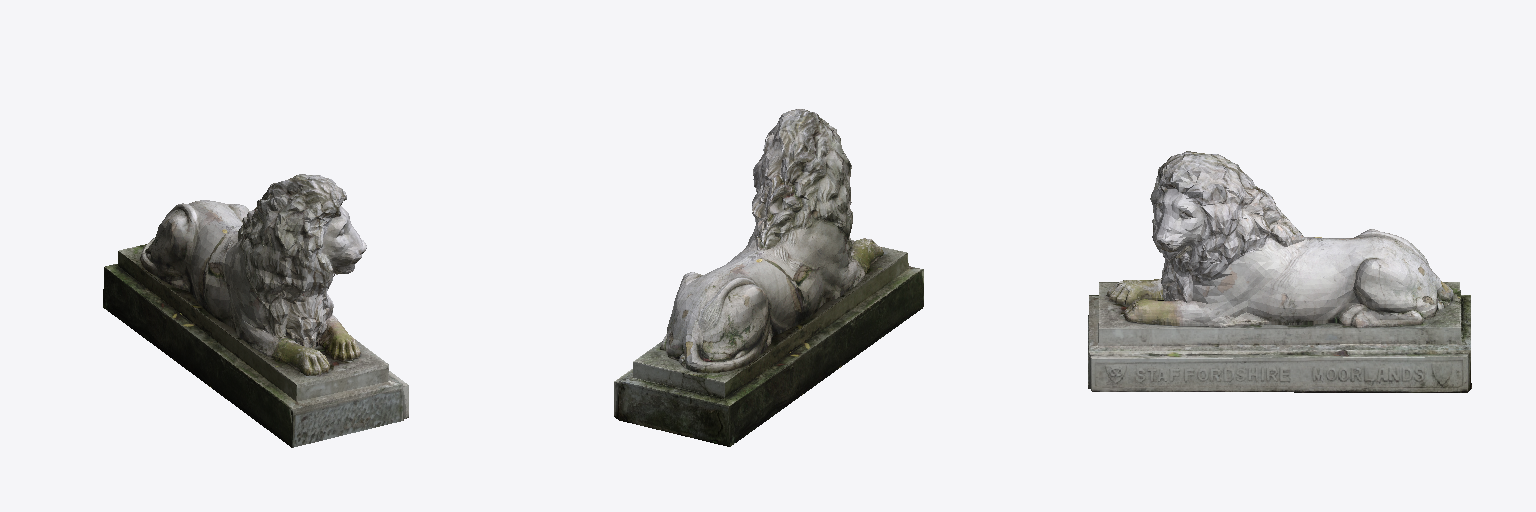
The picture shows the model from 3 angles: view 1: azimuth 30°, elevation 25°; view 2: azimuth 150°, elevation 25°; view 3: azimuth 270°, elevation 25°; orthographic projection.
Parts seen in each view (by area): view 1: Lion, Base; view 2: Lion, Base; view 3: Lion, Base.
Part boxes in pixels (bbox=[...]): Lion: bbox=[140, 174, 366, 375]; Base: bbox=[103, 244, 408, 447]; Lion: bbox=[660, 109, 883, 372]; Base: bbox=[614, 240, 923, 446]; Lion: bbox=[1106, 151, 1453, 327]; Base: bbox=[1088, 282, 1471, 392].
Size of the model in its own units: 3.26 by 5.55 by 8.98.
Materials: 2 (2 with a texture image).